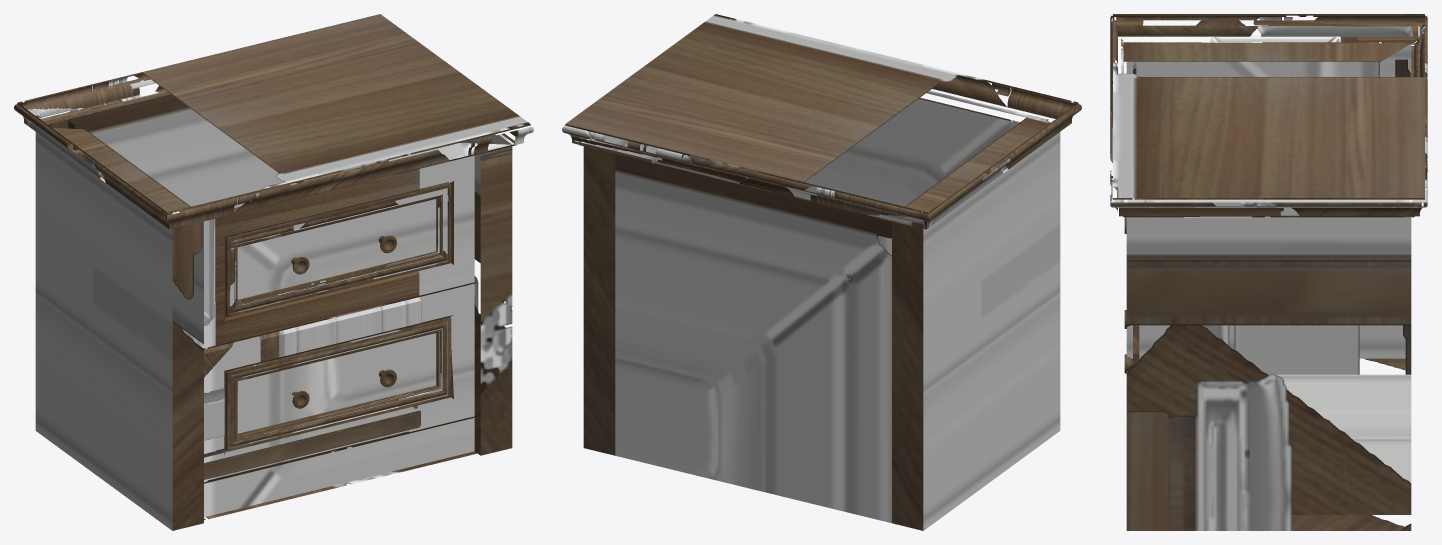
File: raw_model.obj
3 renders of one model, left to right at view 1: azimuth 30°, elevation 25°; view 2: azimuth 150°, elevation 25°; view 3: azimuth 270°, elevation 25°, orthographic. The views are drawn at different scales.
Parts seen in each view (by area): view 1: solid_001, solid_002; view 2: solid_001; view 3: solid_001.
Part boxes in pixels (<box>): solid_001: <box>14,14,533,530</box>; solid_002: <box>291,235,396,408</box>; solid_001: <box>562,14,1081,530</box>; solid_001: <box>1110,14,1427,530</box>.
Bounding box in the file's own units: 0.5271 × 0.4473 × 0.3797.
